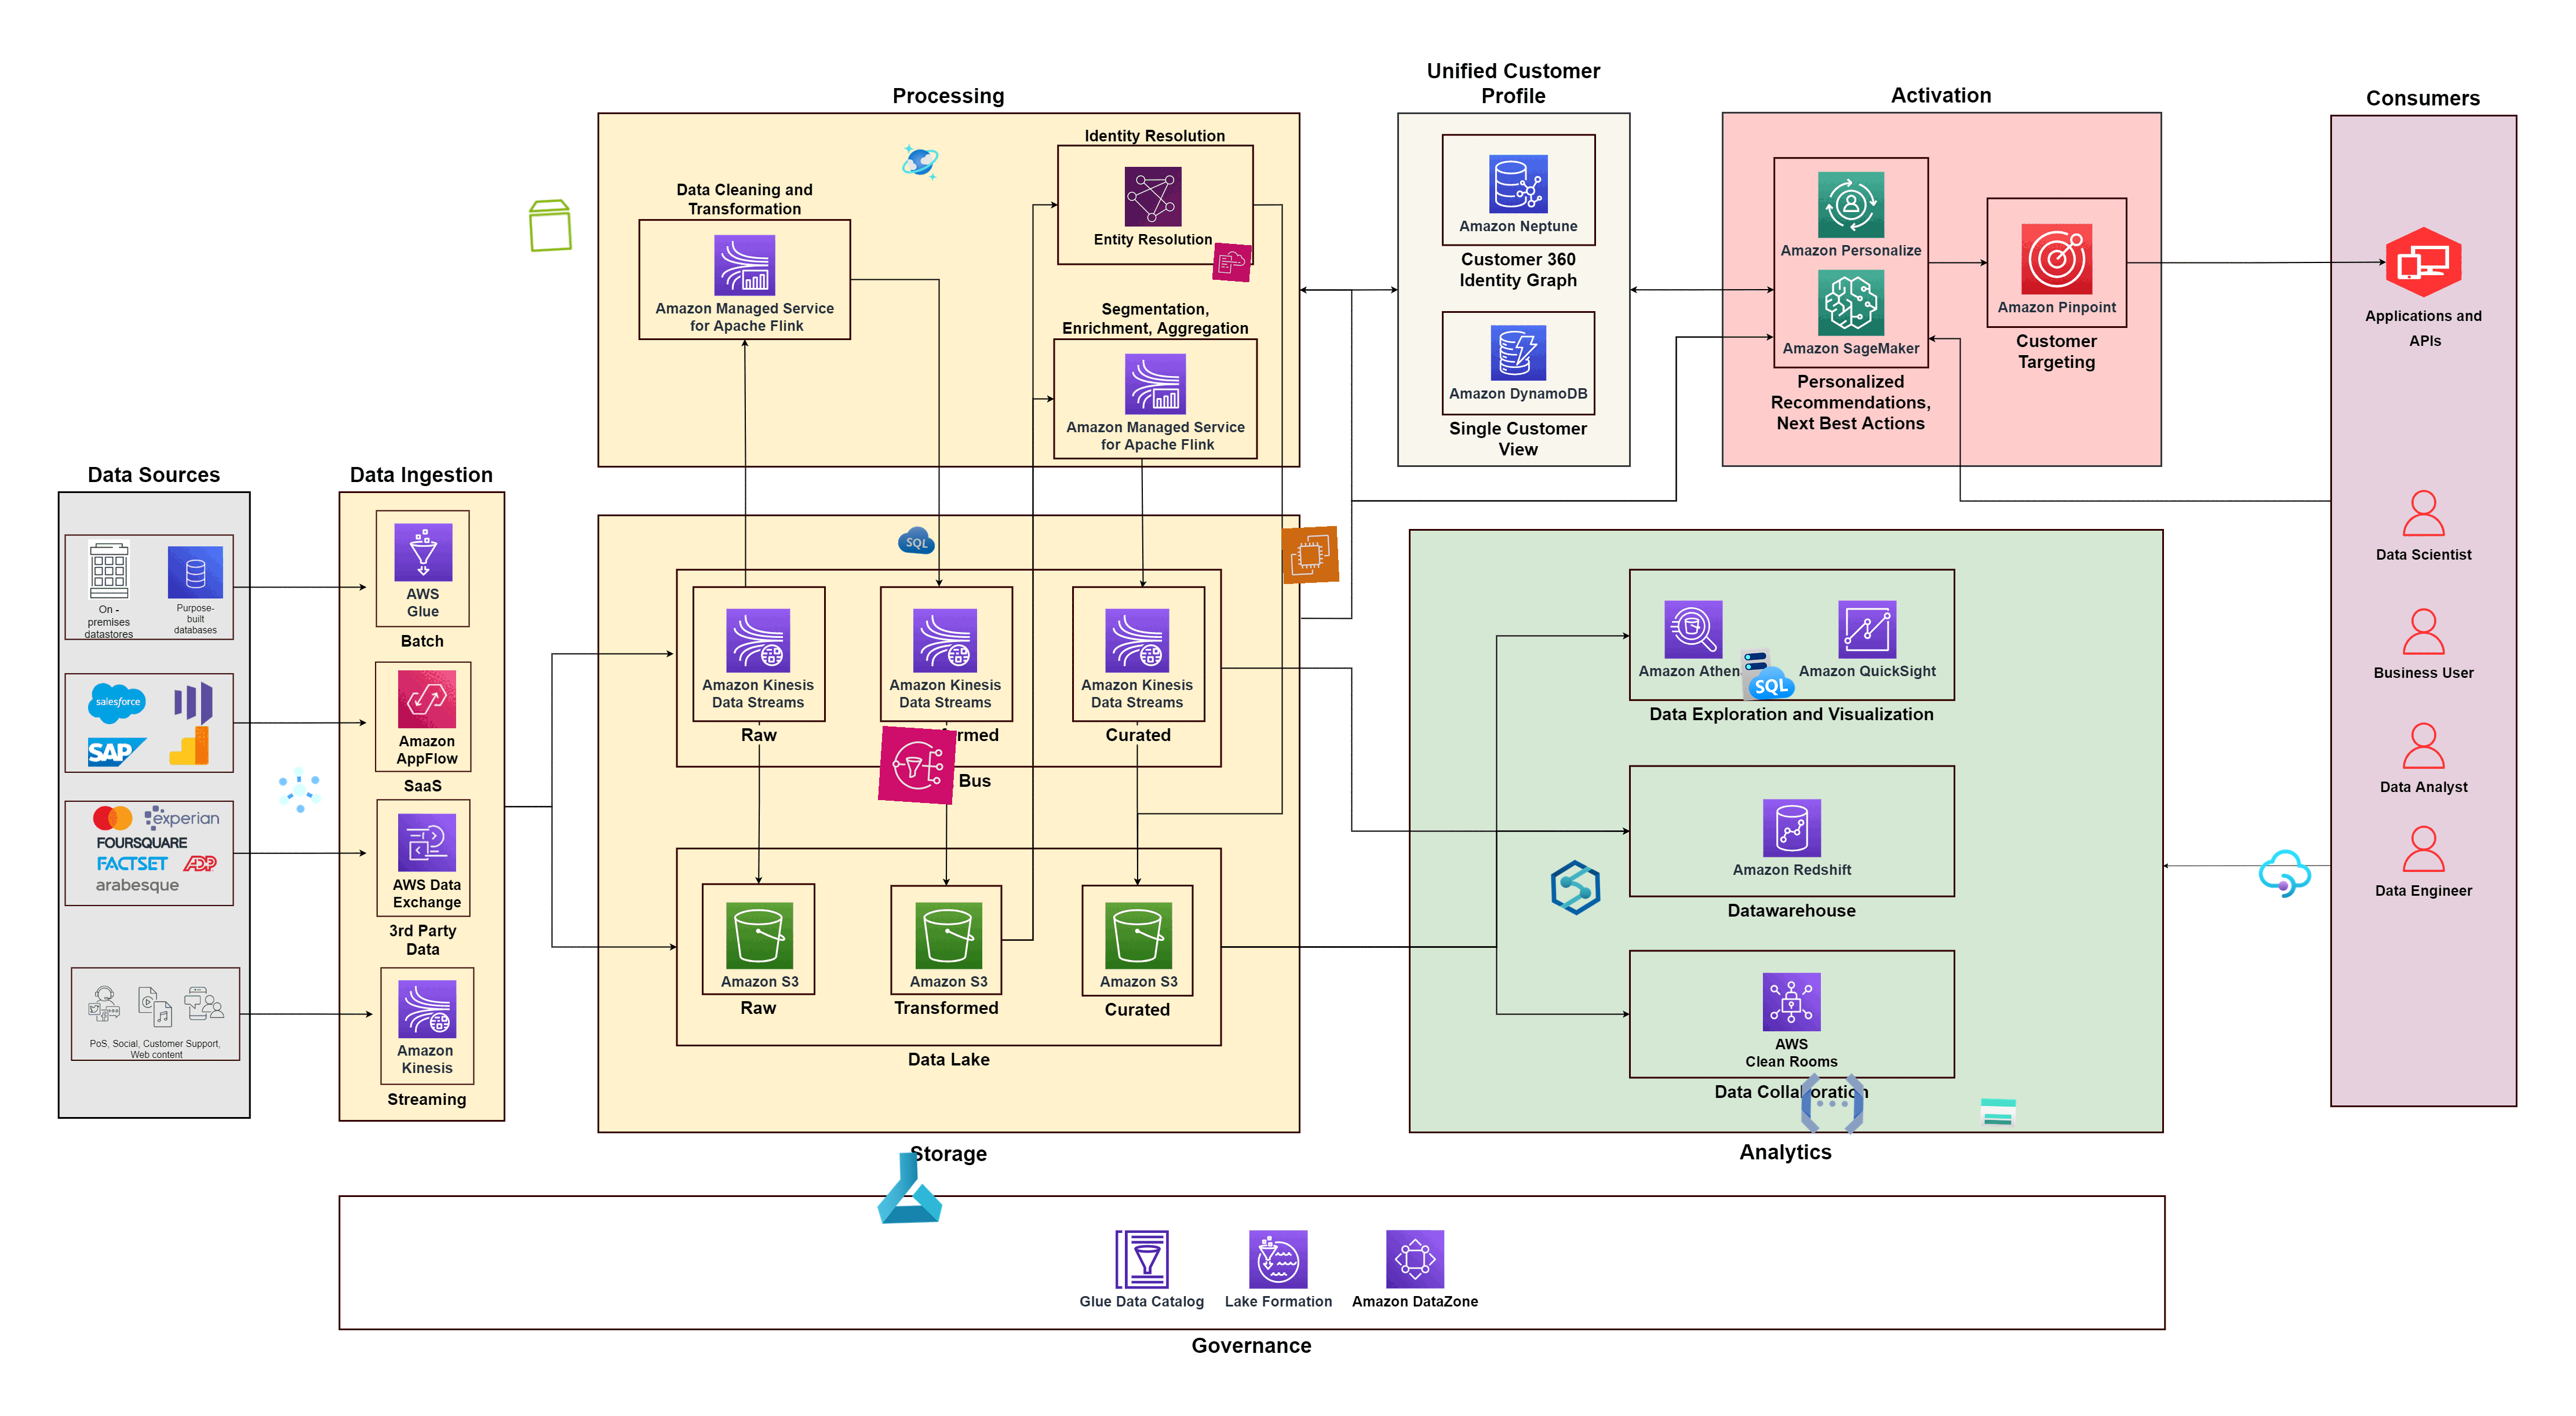aws_amazon_ec2: (1280, 525, 1339, 584)
aws_amazon_simple_notification_service: (877, 725, 957, 806)
aws_cloudformation: (1212, 242, 1252, 283)
aws_elastic_block_store_volume: (521, 195, 581, 255)
azure_api_management_services: (2257, 846, 2313, 902)
azure_cosmos_db: (900, 141, 940, 183)
azure_machine_learning: (870, 1149, 947, 1226)
azure_sql: (896, 520, 937, 562)
azure_sql_managed_instance: (1737, 643, 1798, 703)
azure_storage_accounts: (1980, 1093, 2018, 1132)
azure_synapse_analytics: (1547, 858, 1605, 917)
gcp_cloud_functions: (1795, 1065, 1871, 1142)
gcp_pubsub: (270, 760, 330, 820)
